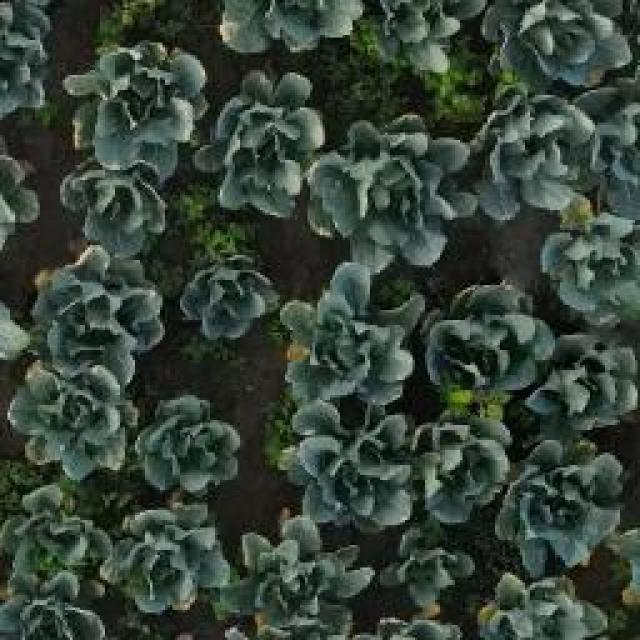cabbage: (323, 121, 466, 260), (464, 85, 595, 221), (199, 74, 319, 213), (76, 42, 205, 170), (501, 436, 622, 570), (290, 278, 412, 400), (288, 409, 416, 524), (423, 294, 549, 410), (480, 0, 640, 91), (16, 355, 136, 472), (246, 525, 371, 637), (35, 255, 166, 358), (128, 392, 240, 510), (111, 509, 227, 619), (535, 200, 640, 315), (408, 414, 512, 525), (533, 328, 639, 428), (62, 166, 177, 256), (213, 0, 363, 63), (5, 488, 110, 572), (182, 253, 275, 344), (375, 0, 470, 82), (488, 579, 614, 640), (386, 525, 473, 610), (0, 579, 103, 640)
